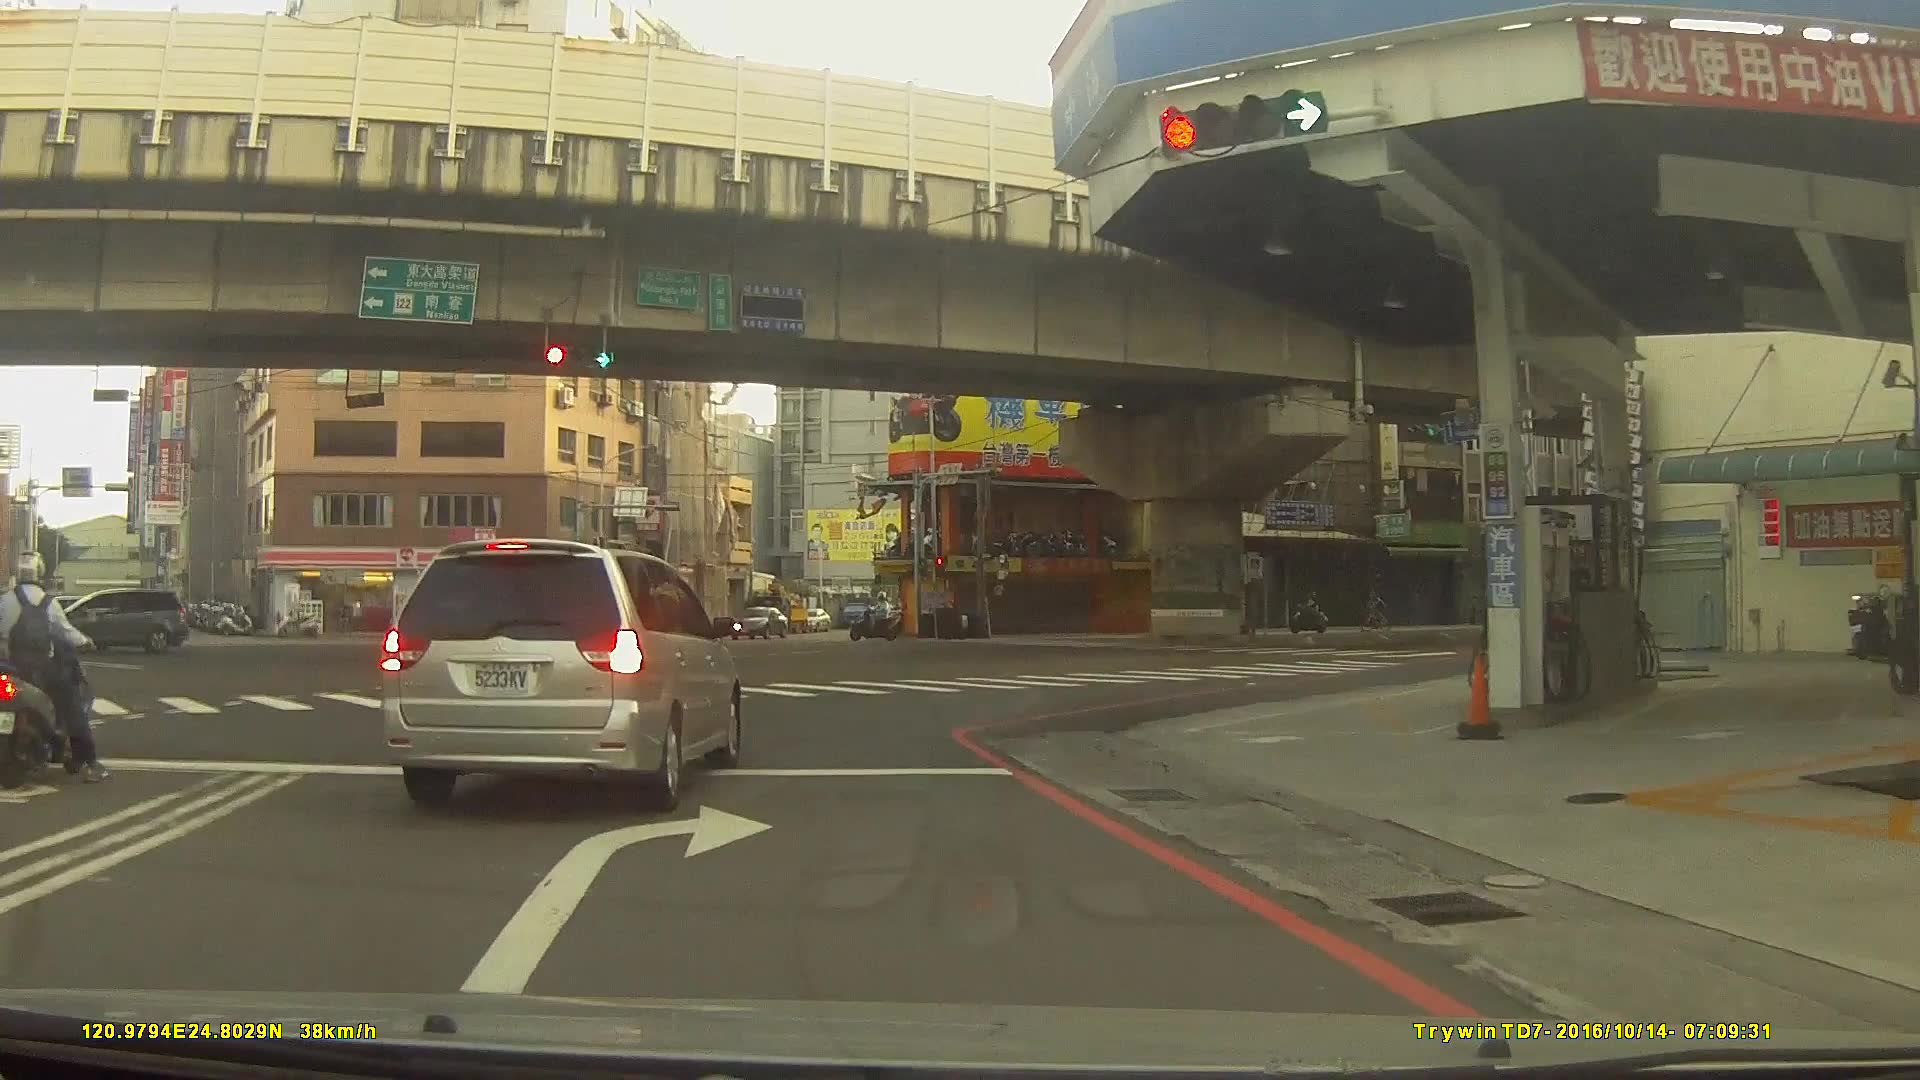rider: (1, 549, 118, 791), (852, 595, 900, 643)
vehicle: (375, 537, 738, 812), (37, 586, 188, 655), (731, 605, 789, 639), (543, 606, 605, 633)
